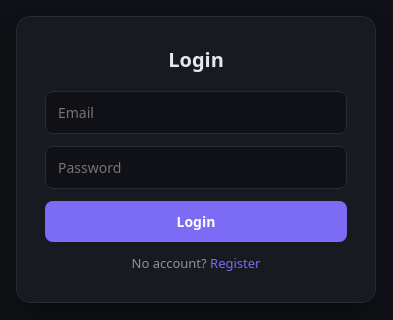
Test: mode switching › switches to register mode
Click the button "Register".
click(235, 264)  # box [210,254,260,274]
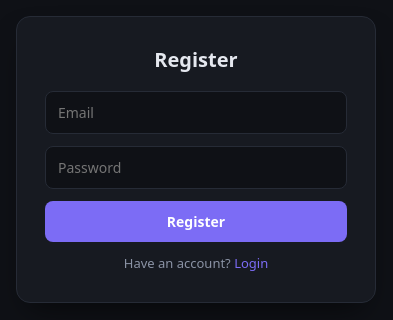
Expected: the heading "Register" is shown, [154,46,238,73]
